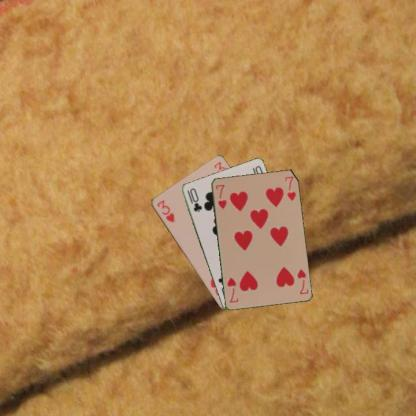10c: (184, 186, 204, 213)
3h: (154, 198, 176, 224)
7h: (212, 180, 228, 210), (295, 266, 309, 296)
